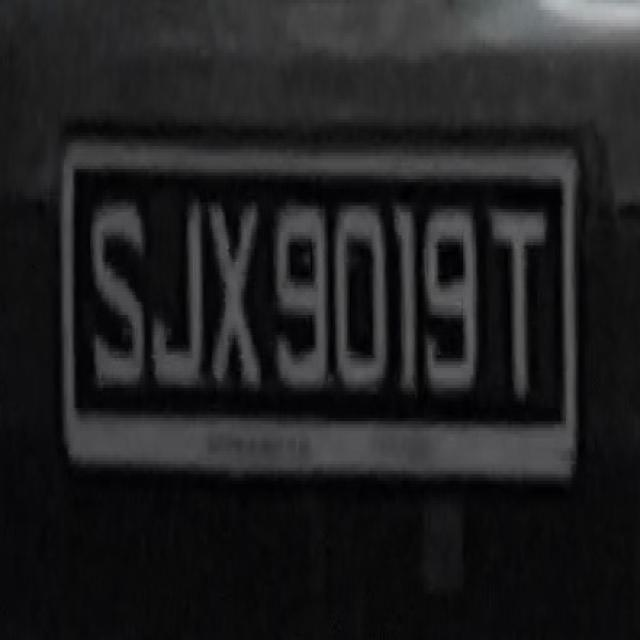0: (335, 199, 385, 401)
1: (388, 189, 415, 401)
9: (424, 192, 477, 392), (276, 192, 325, 392)
J: (145, 192, 209, 395)
S: (86, 189, 148, 391)
T: (486, 202, 549, 402)
X: (203, 186, 266, 401)
